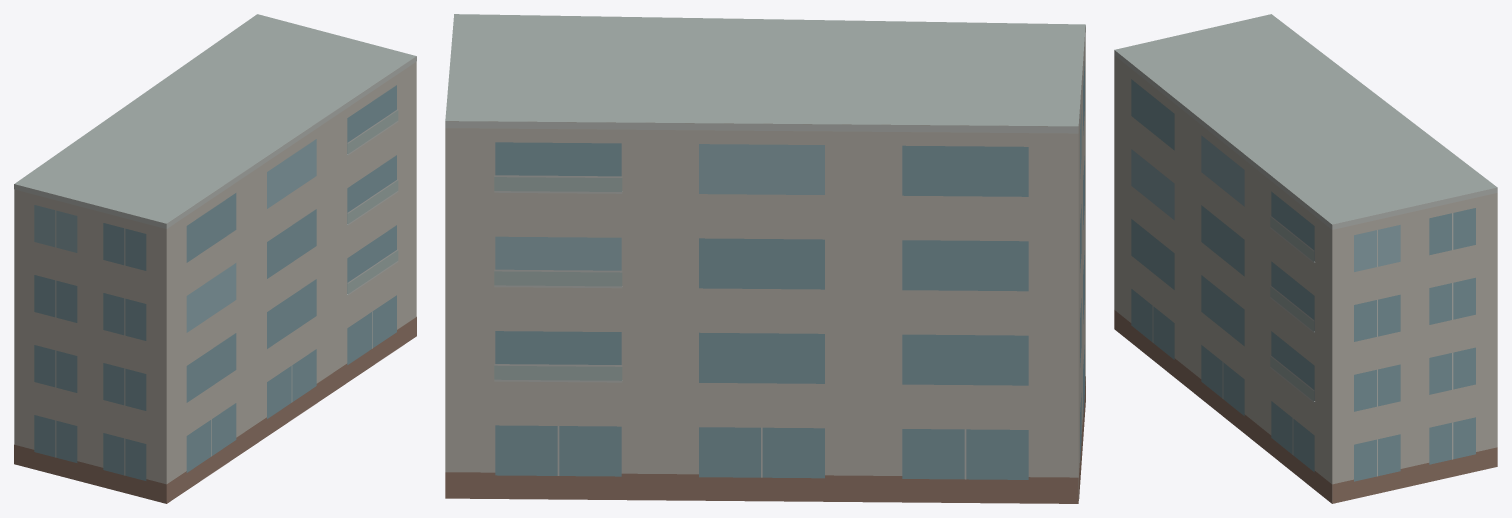
The model's file is survey-upis-32627986.glb.
The picture shows the model from 3 angles, left to right: view 1: azimuth 30°, elevation 25°; view 2: azimuth 150°, elevation 25°; view 3: azimuth 270°, elevation 25°; orthographic projection. The views are drawn at different scales.
Visible parts, largest first — view 1: survey-upis-32627986.tmp; view 2: survey-upis-32627986.tmp; view 3: survey-upis-32627986.tmp.
Part boxes in pixels (x1,y1,x2,y2): survey-upis-32627986.tmp: [14, 14, 416, 503]; survey-upis-32627986.tmp: [445, 14, 1085, 503]; survey-upis-32627986.tmp: [1114, 14, 1497, 503].
Bounding box in the file's own units: 20.72 × 12.8 × 15.93.
